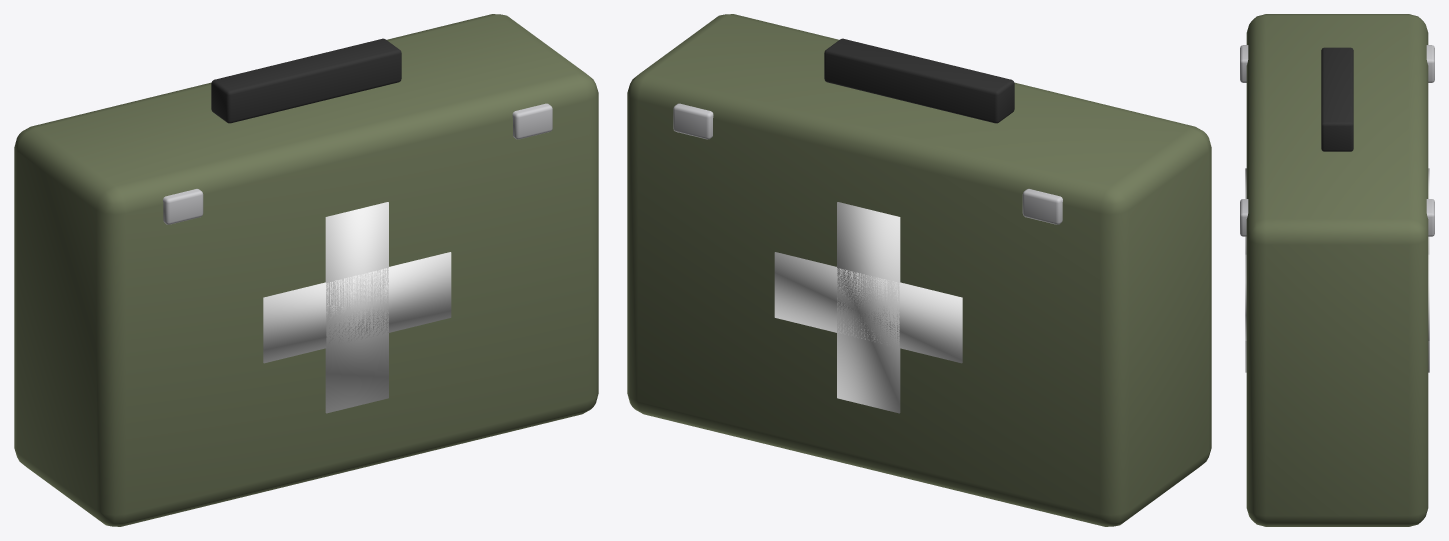
File: SM_SurgeryKit.glb
The picture shows the model from 3 angles, left to right: view 1: azimuth 30°, elevation 25°; view 2: azimuth 150°, elevation 25°; view 3: azimuth 270°, elevation 25°; orthographic projection. The views are drawn at different scales.
Visible parts, largest first — view 1: SM_SurgeryKit; view 2: SM_SurgeryKit; view 3: SM_SurgeryKit.
Boxes of the visible parts, x1,y1,x2,y2 form: SM_SurgeryKit: (14, 14, 598, 526); SM_SurgeryKit: (627, 14, 1211, 526); SM_SurgeryKit: (1240, 14, 1434, 526).
Bounding box in the file's own units: 0.4 × 0.2875 × 0.15.
